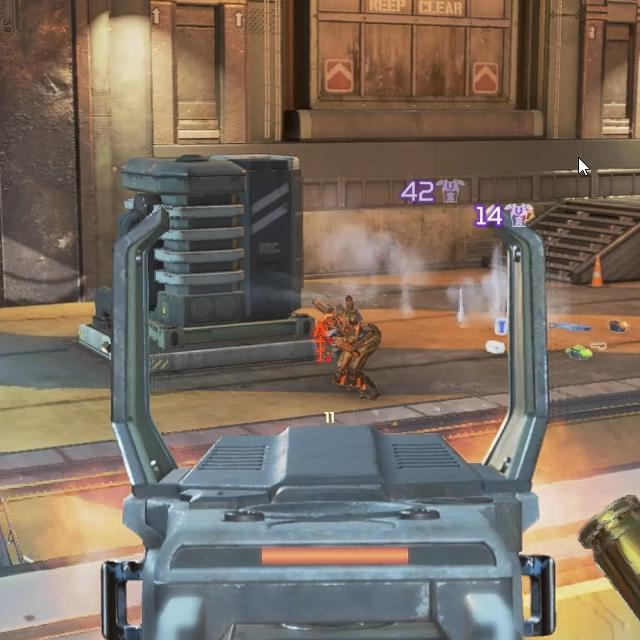avatar: (310, 294, 385, 402)
